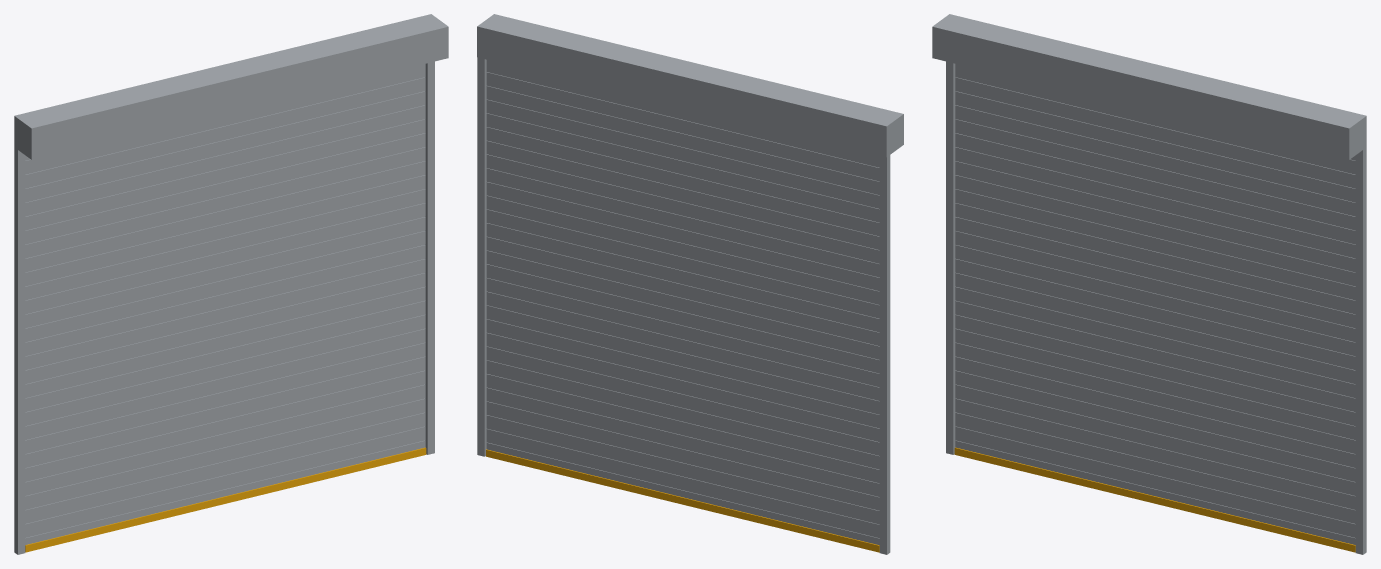
The model's file is opening.door.shutter_5000x5000.glb.
3 renders of one model, left to right at view 1: azimuth 30°, elevation 25°; view 2: azimuth 150°, elevation 25°; view 3: azimuth 330°, elevation 25°, orthographic.
Parts seen in each view (by area): view 1: leaf__steel_galvanised, frame__steel_galvanised, leaf__plant_yellow; view 2: leaf__steel_galvanised, frame__steel_galvanised, leaf__plant_yellow; view 3: leaf__steel_galvanised, frame__steel_galvanised, leaf__plant_yellow.
Part boxes in pixels (x1=…): leaf__steel_galvanised: x1=25, y1=64, x2=425, y2=544; frame__steel_galvanised: x1=14, y1=14, x2=448, y2=554; leaf__plant_yellow: x1=25, y1=447, x2=426, y2=552; leaf__steel_galvanised: x1=486, y1=60, x2=879, y2=545; frame__steel_galvanised: x1=477, y1=14, x2=903, y2=554; leaf__plant_yellow: x1=486, y1=449, x2=879, y2=552; leaf__steel_galvanised: x1=955, y1=64, x2=1355, y2=544; frame__steel_galvanised: x1=932, y1=14, x2=1366, y2=554; leaf__plant_yellow: x1=954, y1=447, x2=1355, y2=552.
Bounding box in the file's own units: 5 × 5 × 0.36.
